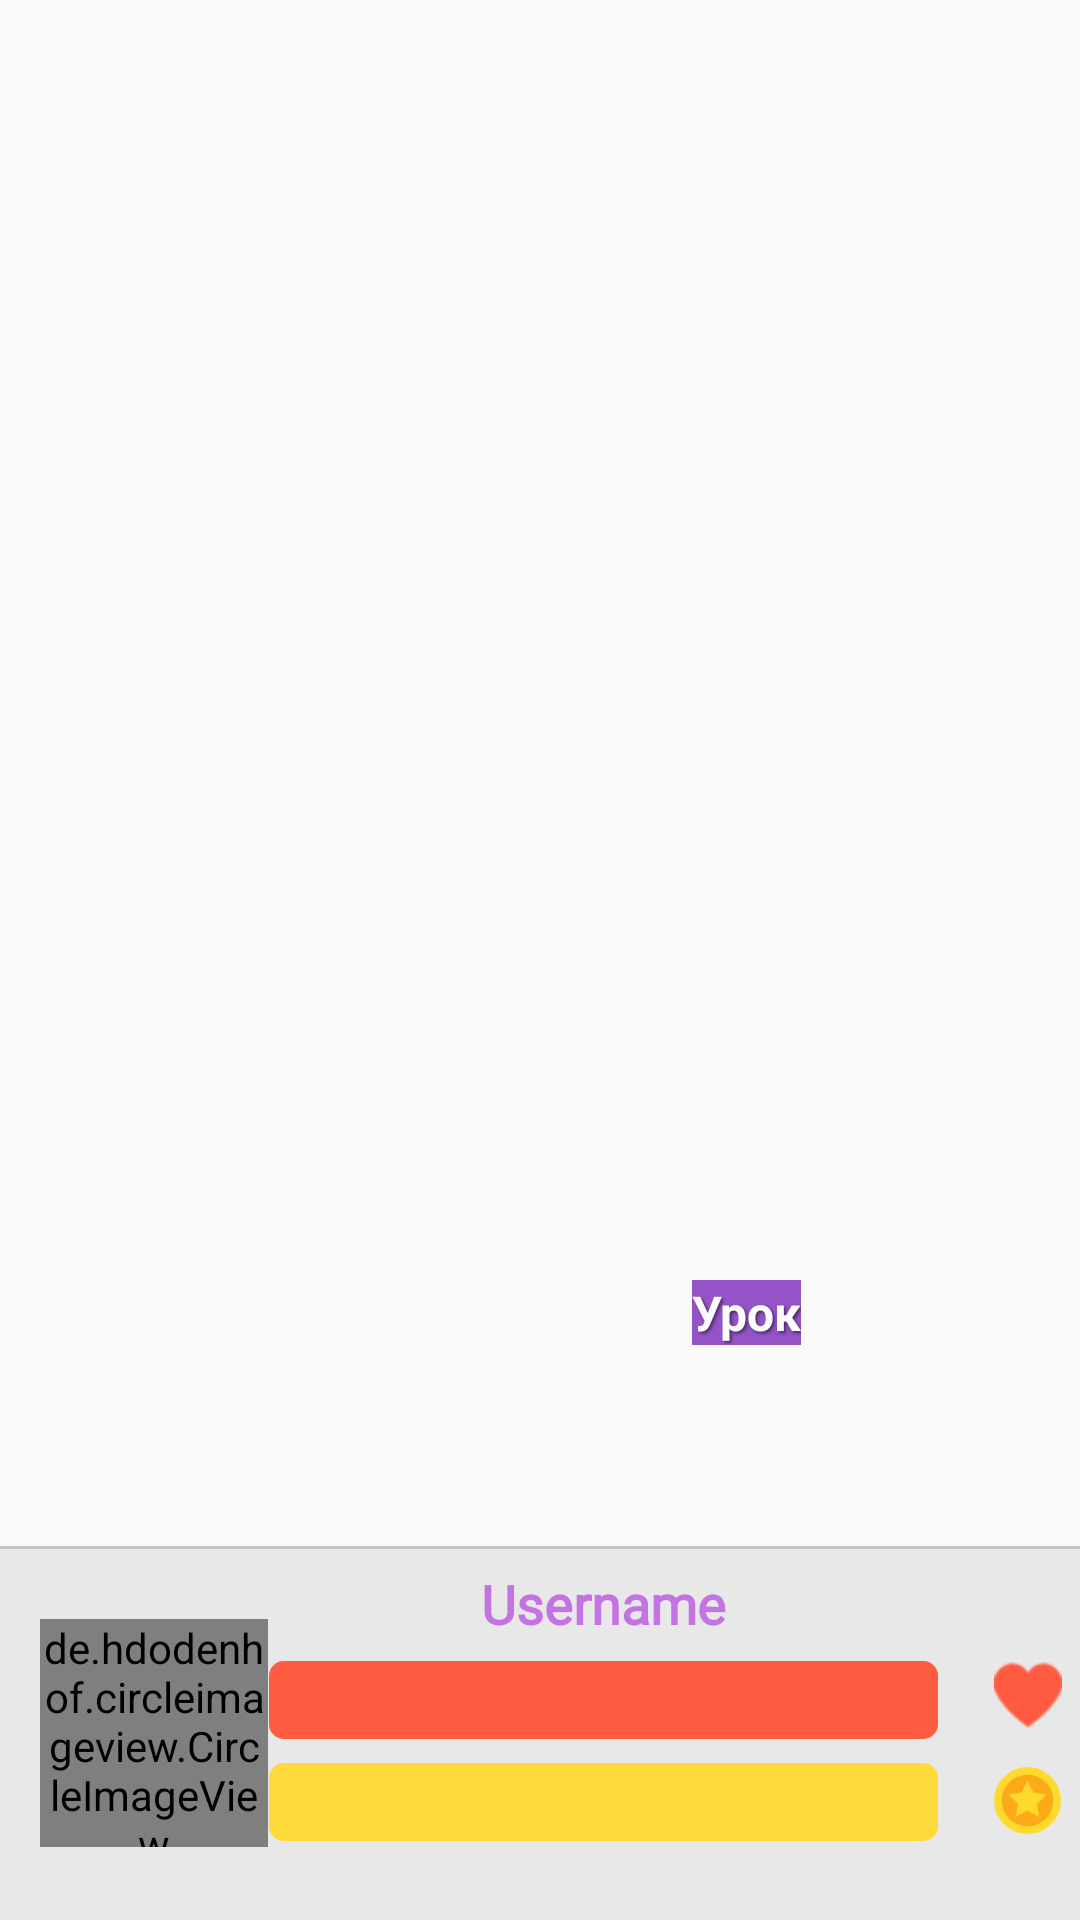

Icons on this 1080 x 1920 Android screen, each with its box as (x1=x1, y1=y1, x2=x2, y2=y2):
coin: (x1=994, y1=1767, x2=1061, y2=1834)
